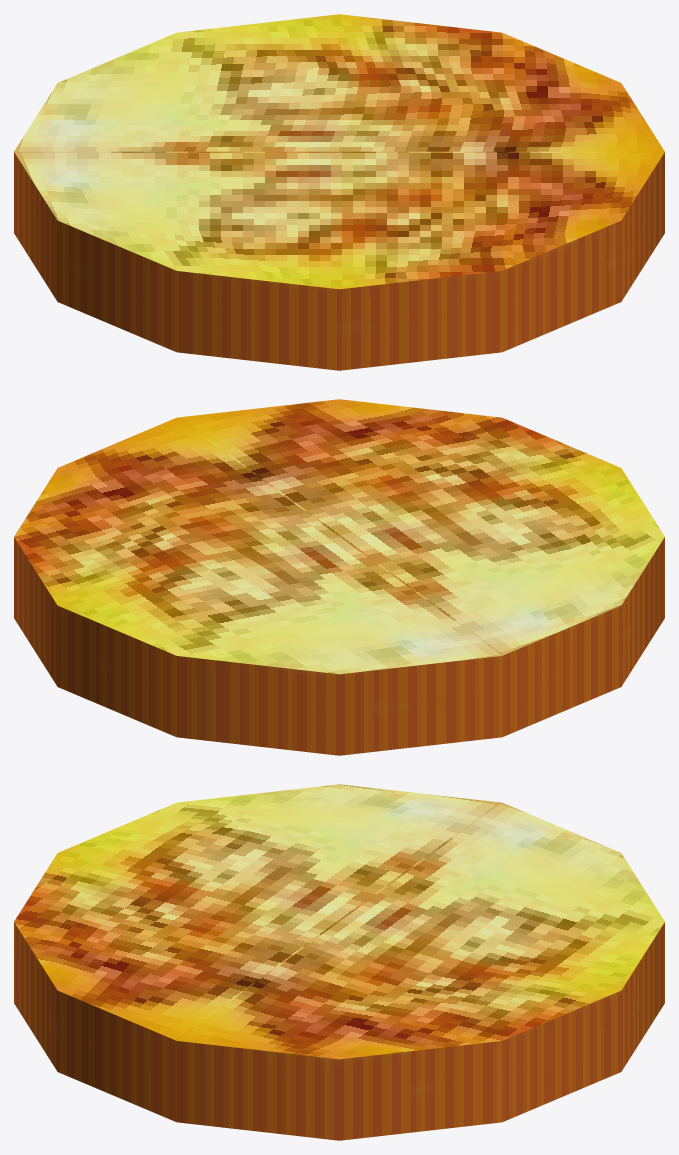
File: Comm_Money01.FBX
3 views of the same model, one above another, from view 1: azimuth 30°, elevation 25°; view 2: azimuth 150°, elevation 25°; view 3: azimuth 270°, elevation 25° (orthographic).
Parts seen in each view (by area): view 1: Money; view 2: Money; view 3: Money.
Boxes of the visible parts, x1,y1,x2,y2 form: Money: [14, 14, 664, 370]; Money: [14, 399, 664, 755]; Money: [14, 784, 664, 1140].
Bounding box in the file's own units: 20.25 × 20.25 × 2.8.
1 material, 1 textured.
